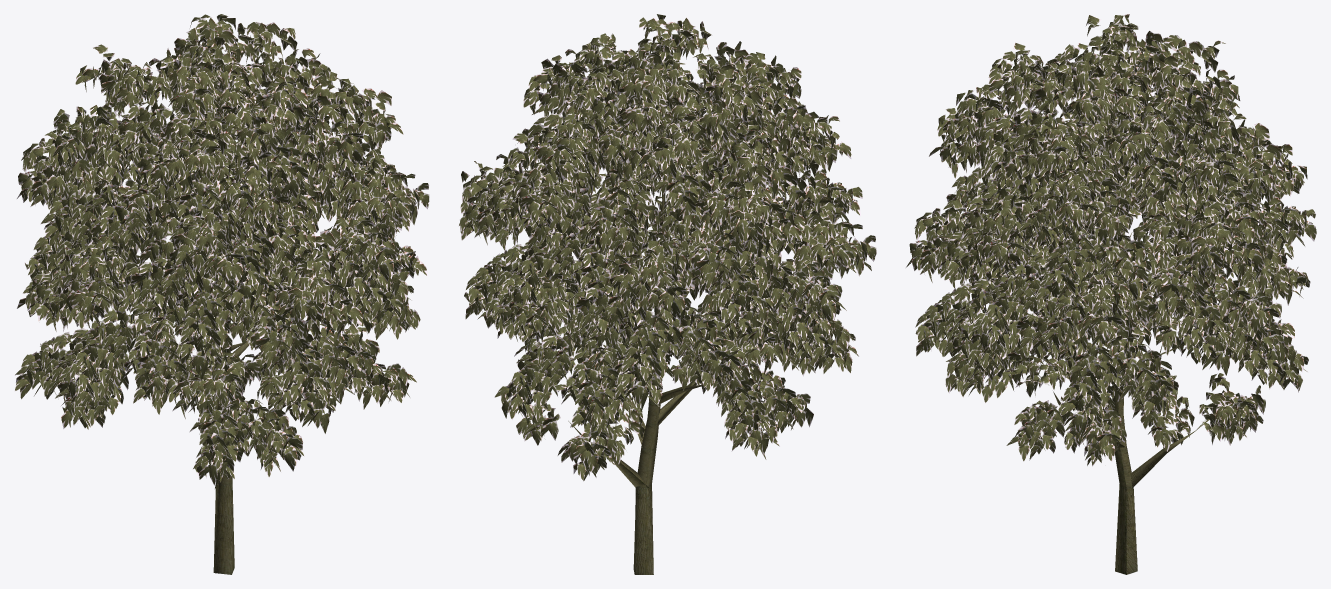
Rendered from Tree.FBX.
3 views of the same model, side by side, from view 1: azimuth 30°, elevation 25°; view 2: azimuth 150°, elevation 25°; view 3: azimuth 270°, elevation 25° (orthographic). The views are drawn at different scales.
Visible parts, largest first — view 1: obj0; view 2: obj0; view 3: obj0.
Part boxes in pixels (left/top/right/bottom): obj0: left=14, top=14, right=429, bottom=574; obj0: left=458, top=14, right=876, bottom=574; obj0: left=906, top=14, right=1316, bottom=574.
Size of the model in its own units: 11.54 by 15.8 by 11.4.
